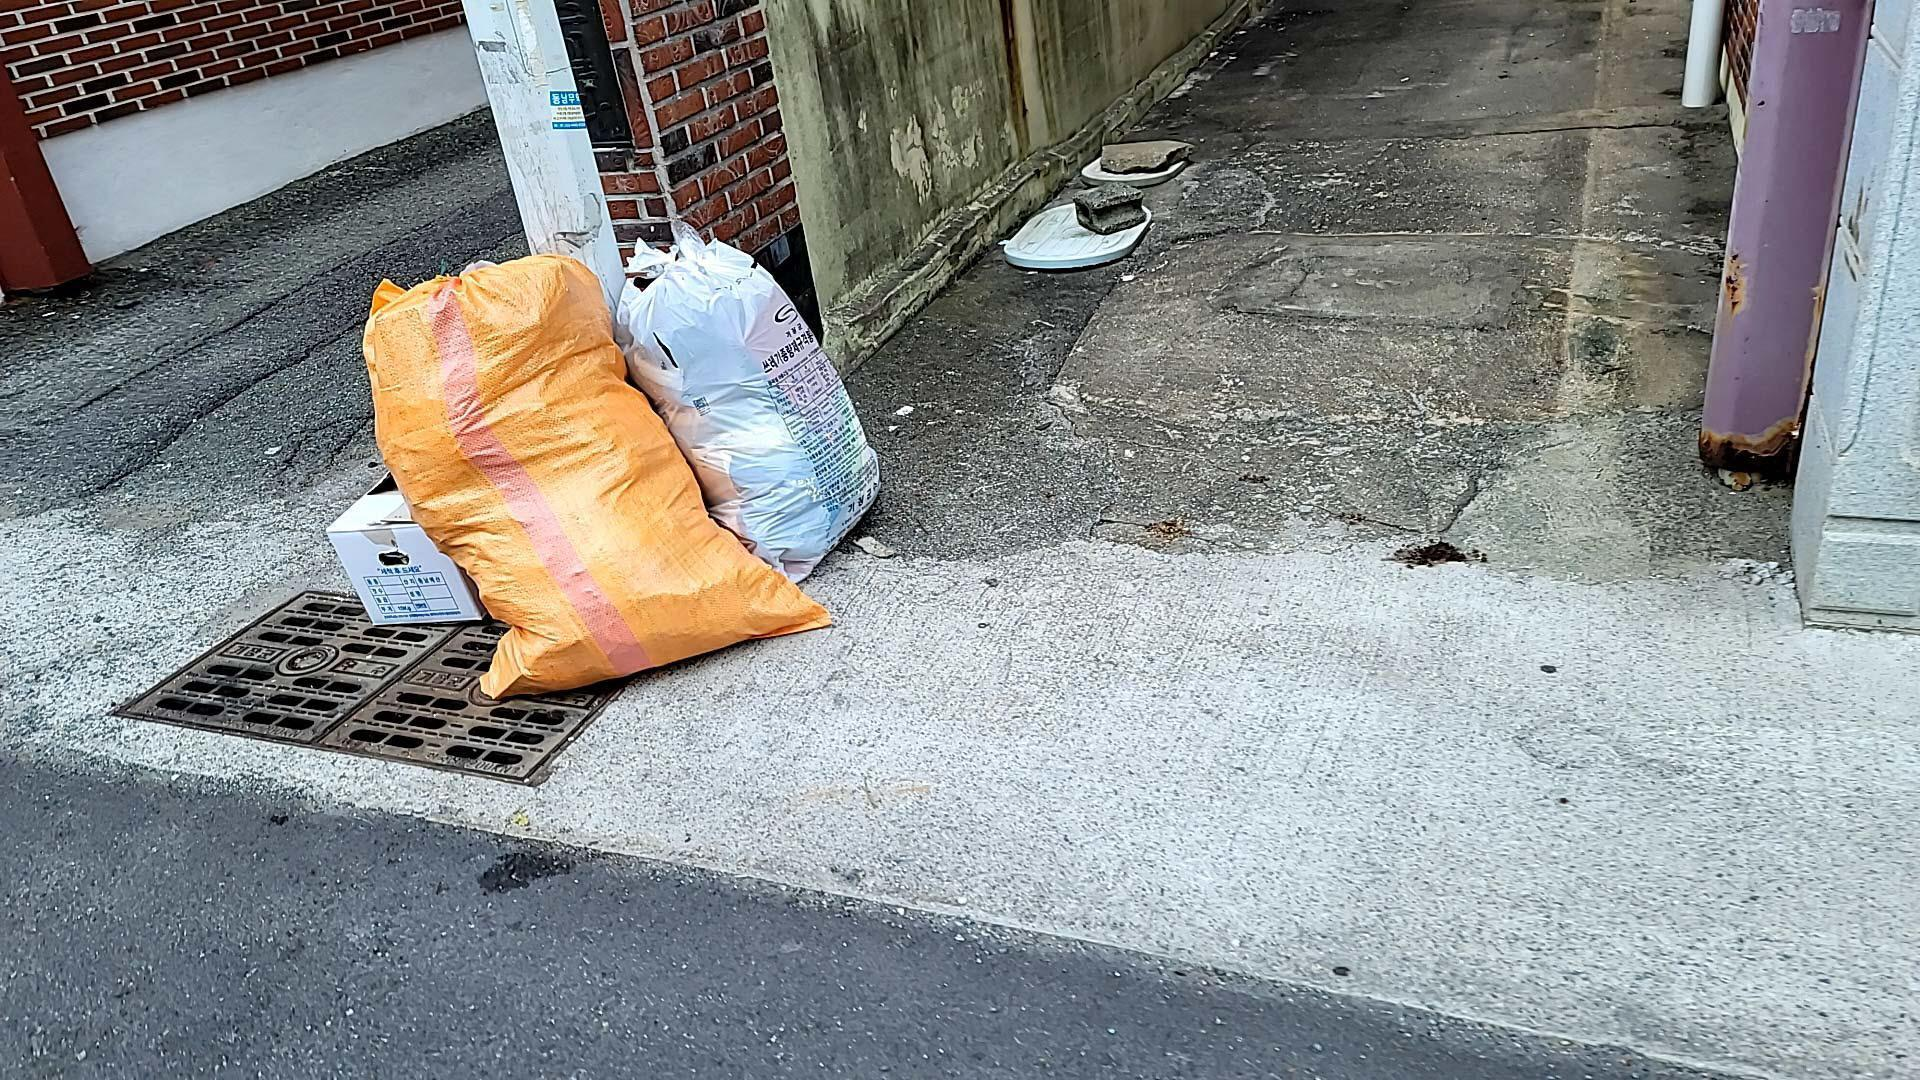white_bag: (601, 204, 909, 591)
